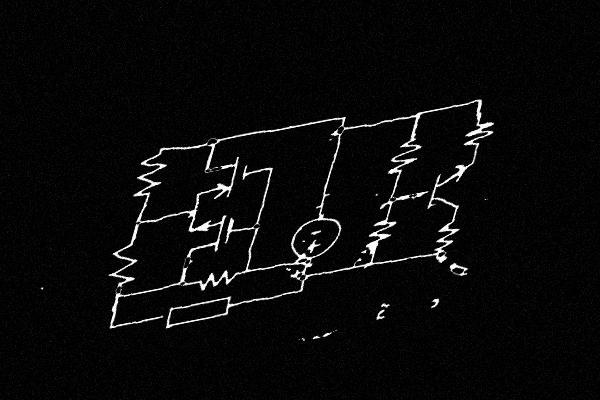resistor: (98, 231, 150, 298), (125, 147, 174, 207), (384, 130, 428, 182), (456, 110, 502, 158), (359, 210, 401, 260), (189, 263, 244, 296), (430, 211, 466, 255)
voltage: (284, 203, 350, 263)
